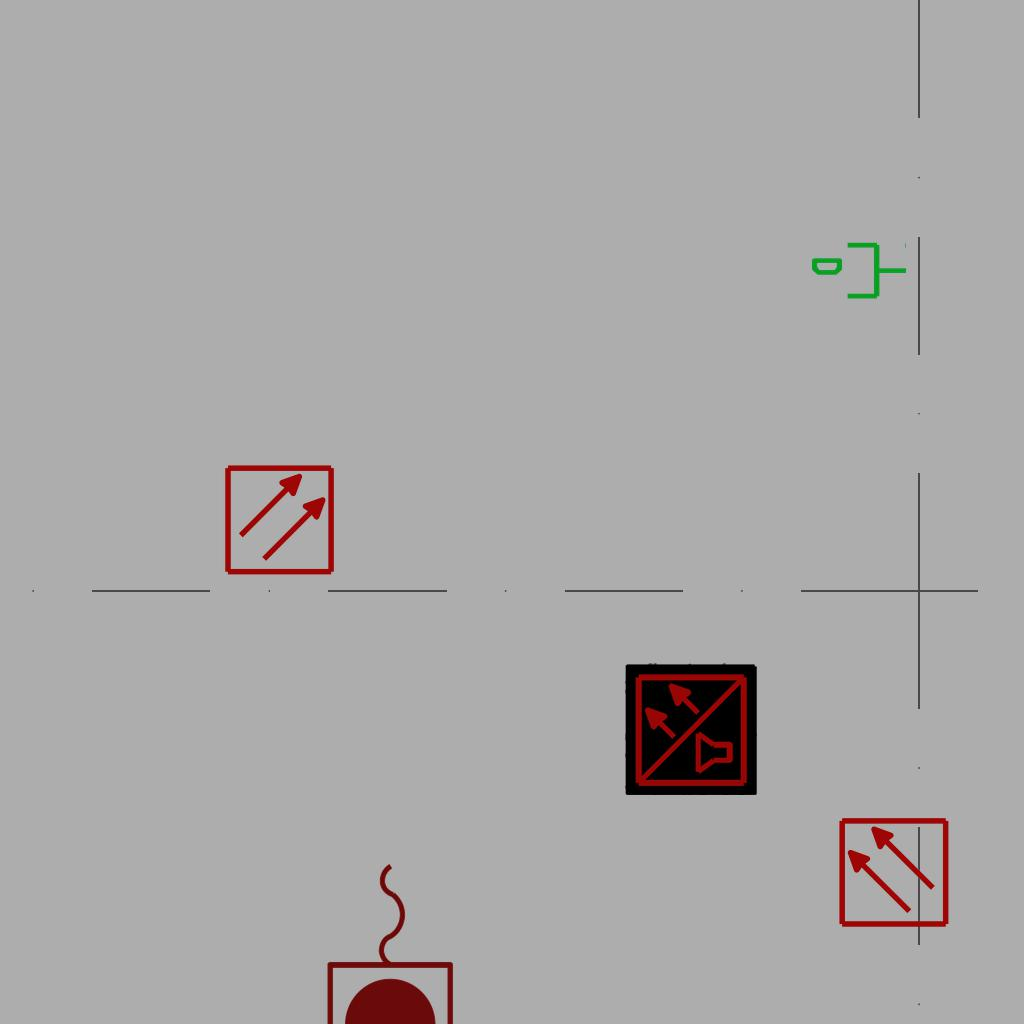Datenanschluss_einfach: (809, 238, 909, 307)
OKW_Multisensormelder_(Kombination_optischer_Rauch-Kahlenmonoxid_Waerme-Melder): (625, 663, 757, 795)
RMO_Rauchmelder_optischer: (223, 463, 336, 576), (837, 816, 950, 929)
Zugtaster: (320, 853, 464, 1024)
